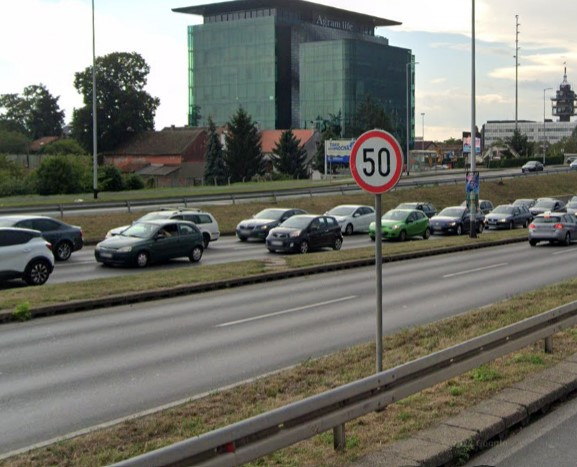Ograničenje brzine 50: (350, 130, 402, 194)
